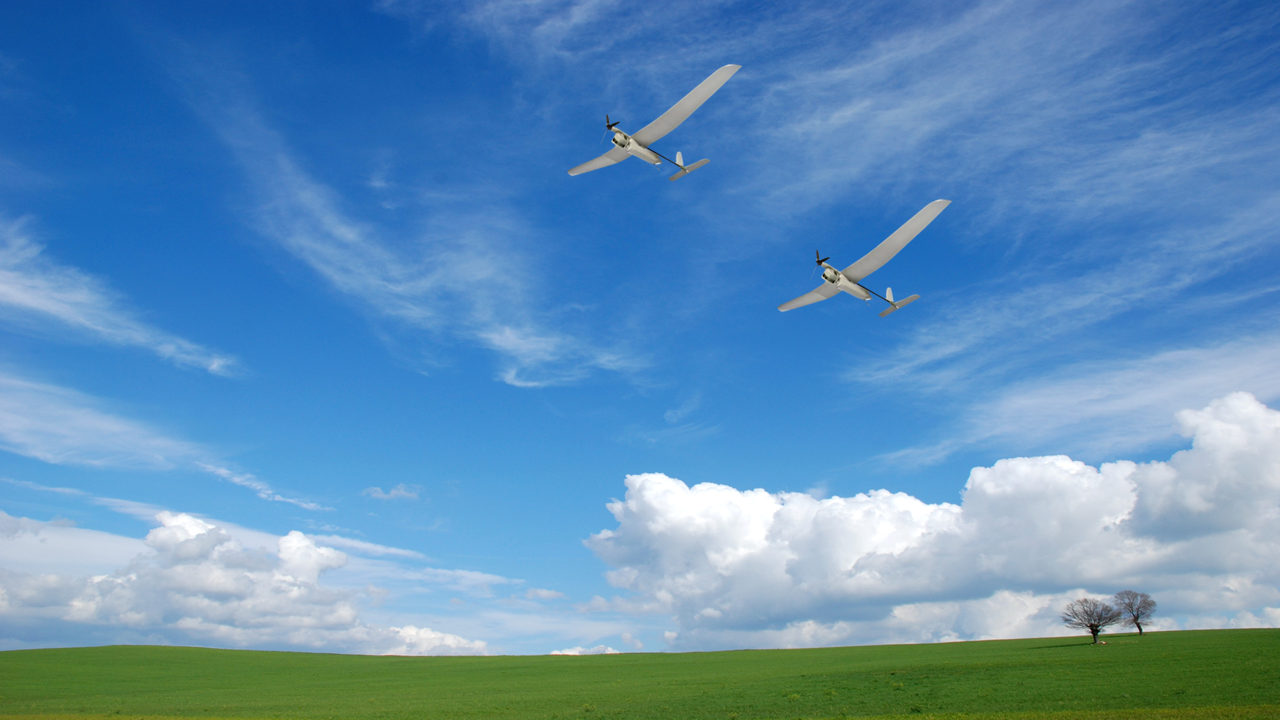military drone: (777, 198, 951, 317), (567, 63, 742, 181)
